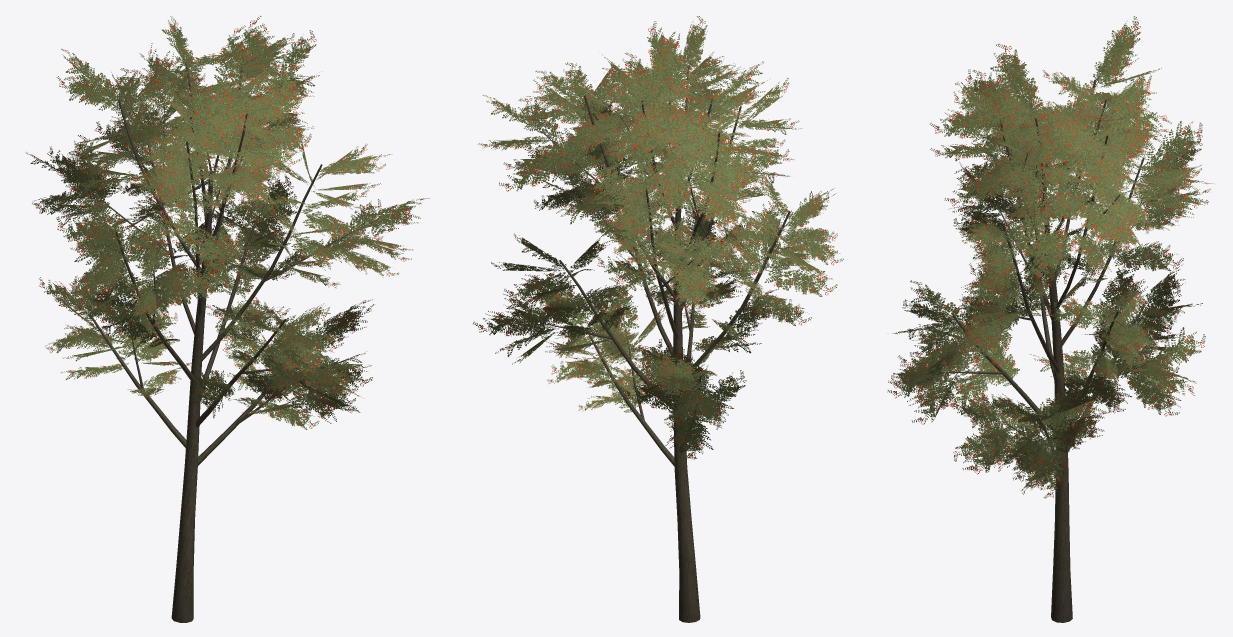
Rendered from rowan.glb.
3 views of the same model, side by side, from view 1: azimuth 30°, elevation 25°; view 2: azimuth 150°, elevation 25°; view 3: azimuth 270°, elevation 25° (orthographic).
Parts seen in each view (by area): view 1: rowan; view 2: rowan; view 3: rowan.
Part boxes in pixels (box(x1,y1,x2,y2)): rowan: box(26, 16, 429, 622); rowan: box(473, 16, 843, 622); rowan: box(887, 16, 1212, 622).
Size of the model in its own units: 4.84 by 7.62 by 4.15.
3 materials, 2 textured.
